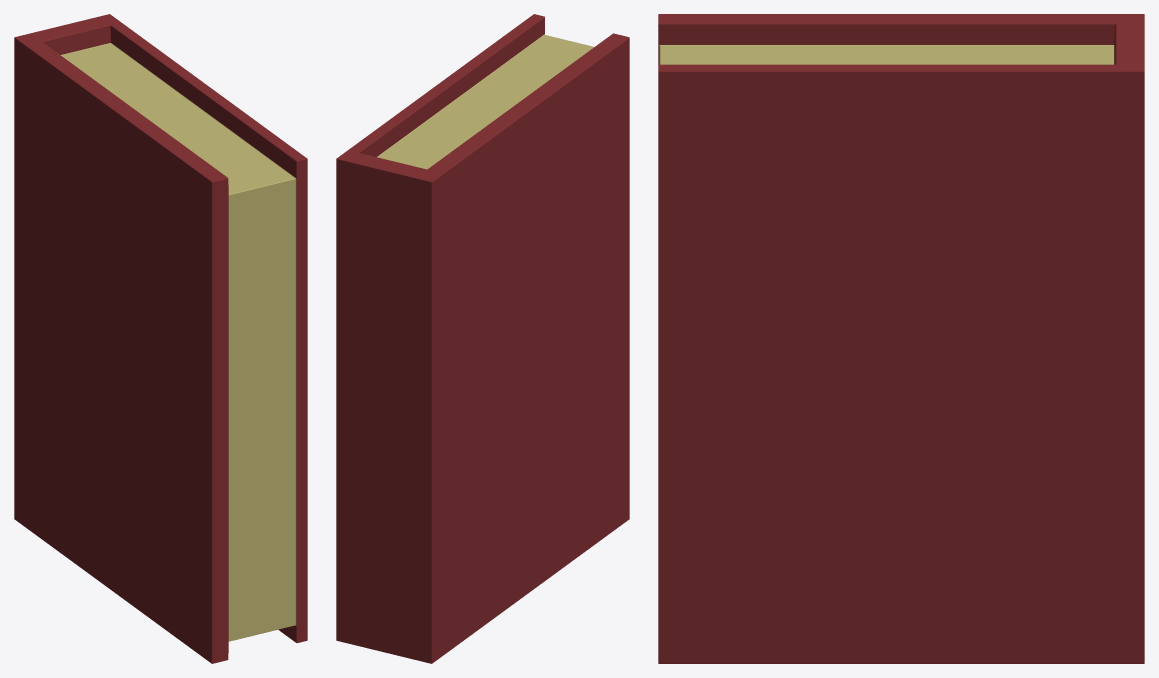
File: Book.fbx
The picture shows the model from 3 angles, left to right: view 1: azimuth 30°, elevation 25°; view 2: azimuth 150°, elevation 25°; view 3: azimuth 270°, elevation 25°; orthographic projection. The views are drawn at different scales.
Parts seen in each view (by area): view 1: pCube1; view 2: pCube1; view 3: pCube1.
Part boxes in pixels (<box>): pCube1: <box>14,14,307,663</box>; pCube1: <box>336,14,629,663</box>; pCube1: <box>658,14,1144,663</box>.
Size of the model in its own units: 1.62 by 7.8 by 5.8.
